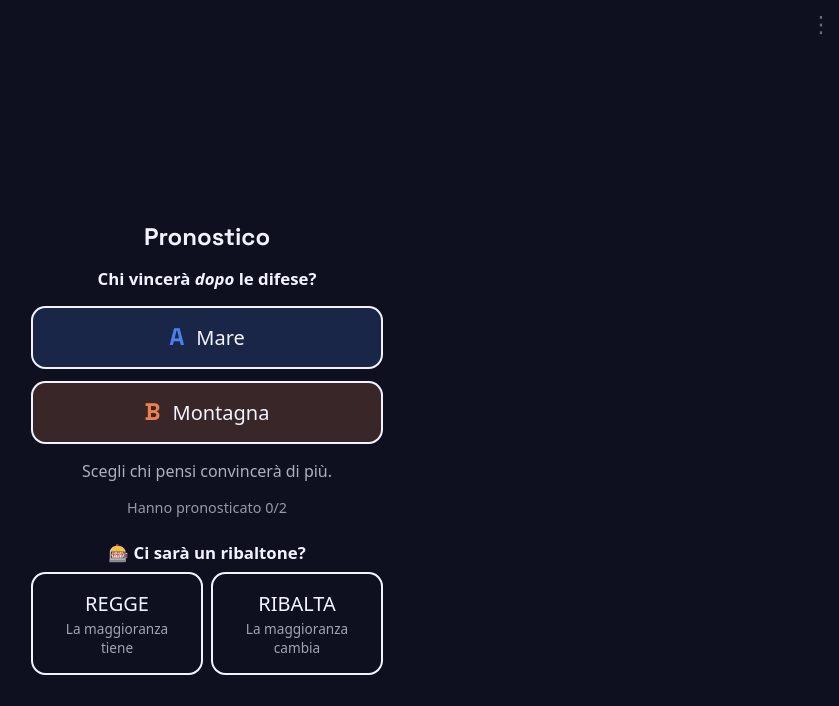
Test: PlayerApp › confirms the swing bet after you place it at PREDICT
Expected: the text "hai scommesso" is not shown
Click the button "REGGE La maggioranza tiene" at [117, 623], box [31,572,203,675]
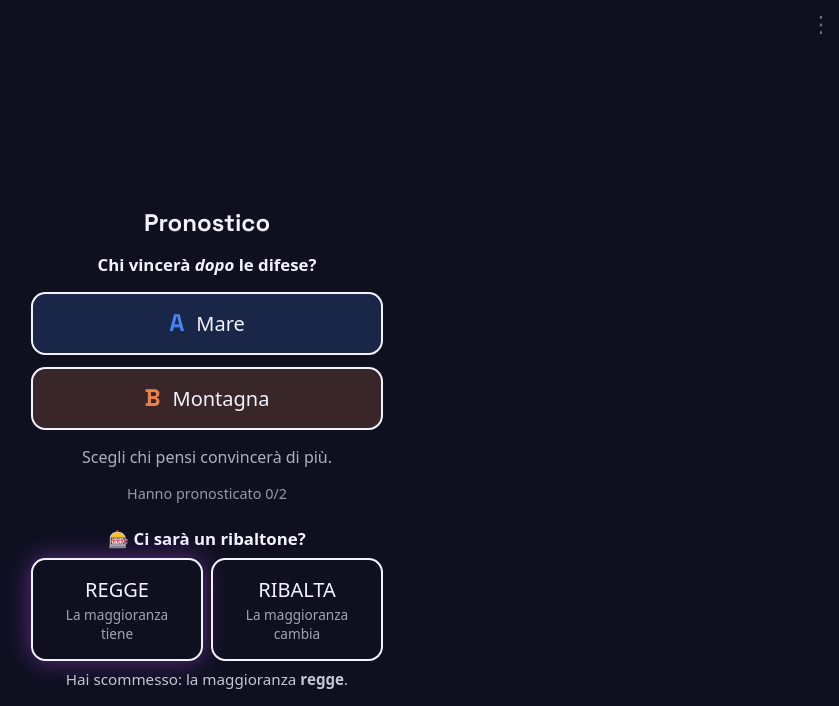
Now the text "Hai scommesso: la maggioranza regge." is shown, box [66,669,348,689]
